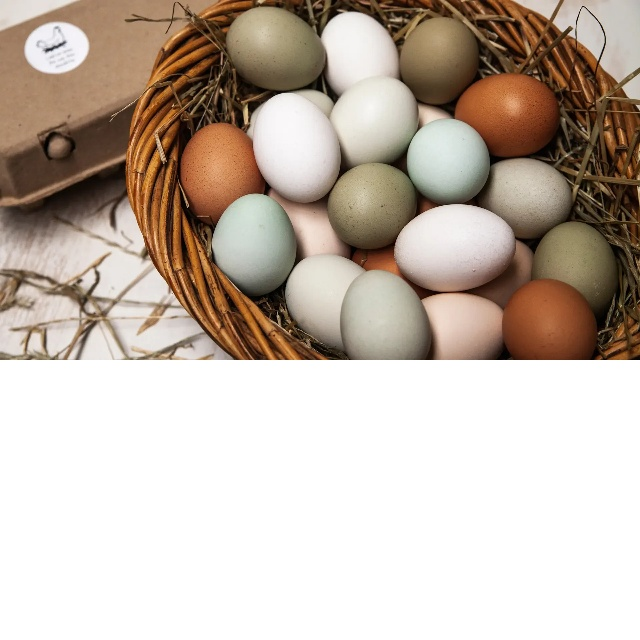trung_ga: (450, 71, 561, 163), (175, 122, 270, 229), (501, 277, 599, 367)
